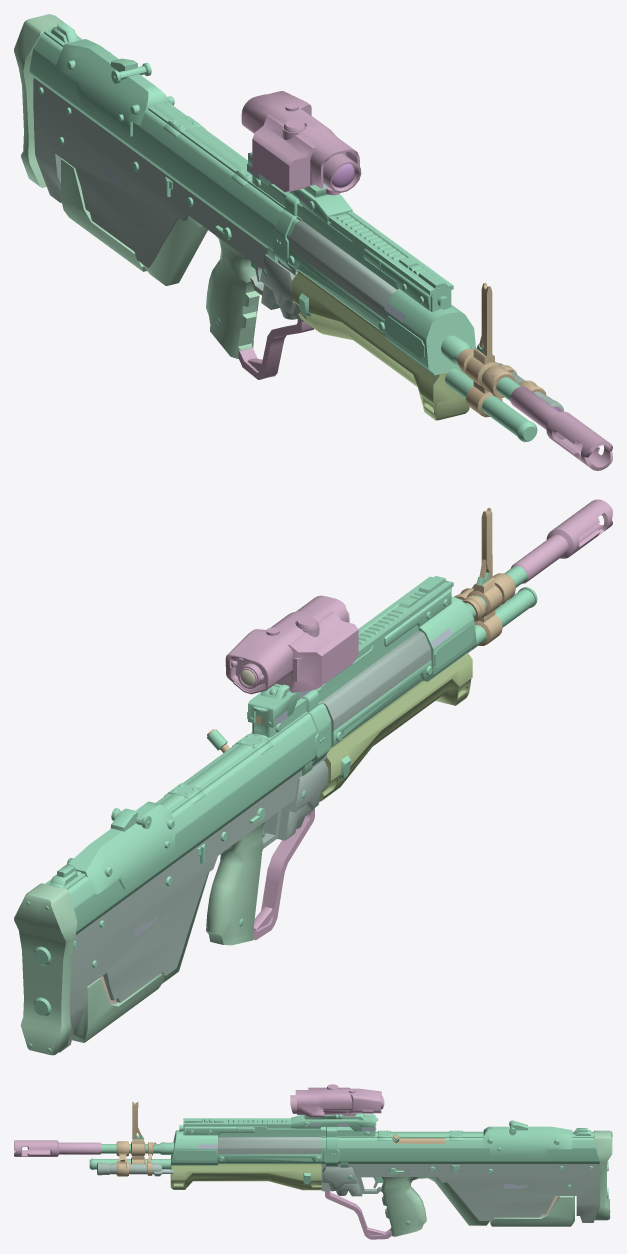
3 views of the same model, one above another, from view 1: azimuth 30°, elevation 25°; view 2: azimuth 150°, elevation 25°; view 3: azimuth 270°, elevation 25° (orthographic). The views are drawn at different scales.
Visible parts, largest first — view 1: v_huntingrifle_reference.002, v_huntingrifle_reference.012, v_huntingrifle_reference.007, v_huntingrifle_reference.001, v_huntingrifle_reference.013, v_huntingrifle_reference.004; view 2: v_huntingrifle_reference.002, v_huntingrifle_reference.012, v_huntingrifle_reference.001, v_huntingrifle_reference.007, v_huntingrifle_reference.013, v_huntingrifle_reference.004; view 3: v_huntingrifle_reference.002, v_huntingrifle_reference.012, v_huntingrifle_reference.001, v_huntingrifle_reference.007, v_huntingrifle_reference.013, v_huntingrifle_reference.004, v_huntingrifle_reference.003.
Boxes of the visible parts, box(x1,y1,x2,y2) form: v_huntingrifle_reference.002: box(29, 22, 537, 442); v_huntingrifle_reference.012: box(33, 78, 563, 411); v_huntingrifle_reference.007: box(238, 91, 612, 470); v_huntingrifle_reference.001: box(14, 14, 259, 358); v_huntingrifle_reference.013: box(292, 270, 469, 420); v_huntingrifle_reference.004: box(457, 282, 546, 417); v_huntingrifle_reference.002: box(25, 566, 537, 1052); v_huntingrifle_reference.012: box(59, 586, 473, 1052); v_huntingrifle_reference.001: box(14, 821, 265, 1055); v_huntingrifle_reference.007: box(225, 499, 612, 940); v_huntingrifle_reference.013: box(319, 653, 472, 801); v_huntingrifle_reference.004: box(207, 507, 515, 752); v_huntingrifle_reference.002: box(89, 1113, 612, 1224); v_huntingrifle_reference.012: box(97, 1137, 599, 1222); v_huntingrifle_reference.001: box(380, 1130, 612, 1236); v_huntingrifle_reference.007: box(14, 1084, 391, 1239); v_huntingrifle_reference.013: box(170, 1158, 321, 1190); v_huntingrifle_reference.004: box(116, 1101, 445, 1176); v_huntingrifle_reference.003: box(198, 1123, 527, 1188).
Size of the model in its own units: 306 by 1058 by 3826.
